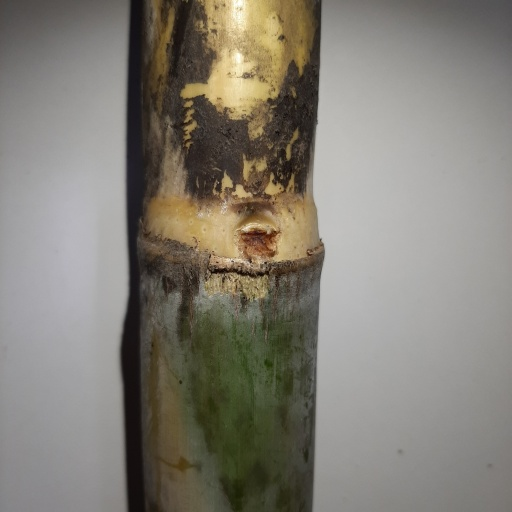Damage_Bud: (240, 215, 277, 260)
